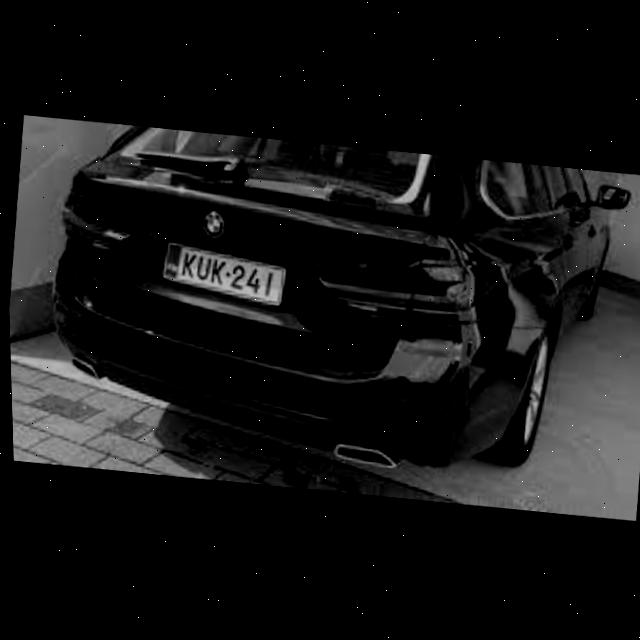license-plates: (163, 243, 285, 305)
